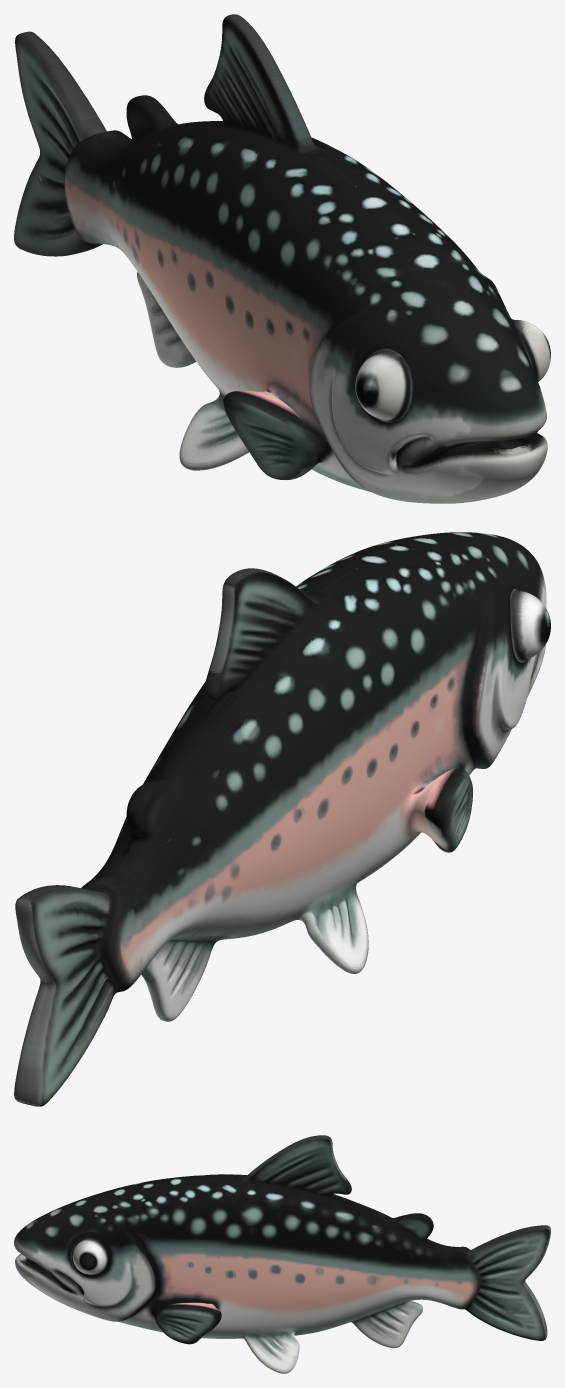
The model's file is Saumon.fbx.
3 views of the same model, one above another, from view 1: azimuth 30°, elevation 25°; view 2: azimuth 150°, elevation 25°; view 3: azimuth 270°, elevation 25° (orthographic). The views are drawn at different scales.
Parts seen in each view (by area): view 1: Mesh_0; view 2: Mesh_0; view 3: Mesh_0.
Boxes of the visible parts, x1=… form: Mesh_0: x1=14, y1=14, x2=550, y2=503; Mesh_0: x1=14, y1=532, x2=550, y2=1106; Mesh_0: x1=14, y1=1135, x2=550, y2=1373.
Bounding box in the file's own units: 48.44 × 84 × 190.
Materials: 1 (1 with a texture image).
